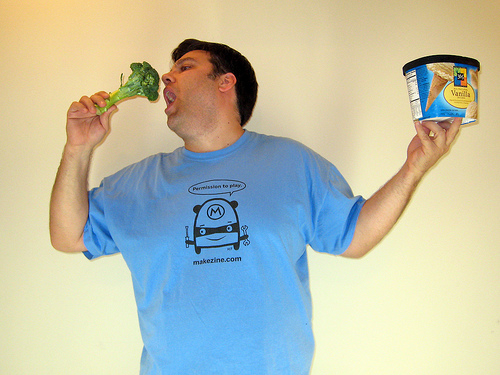broccoli: (92, 58, 161, 121)
